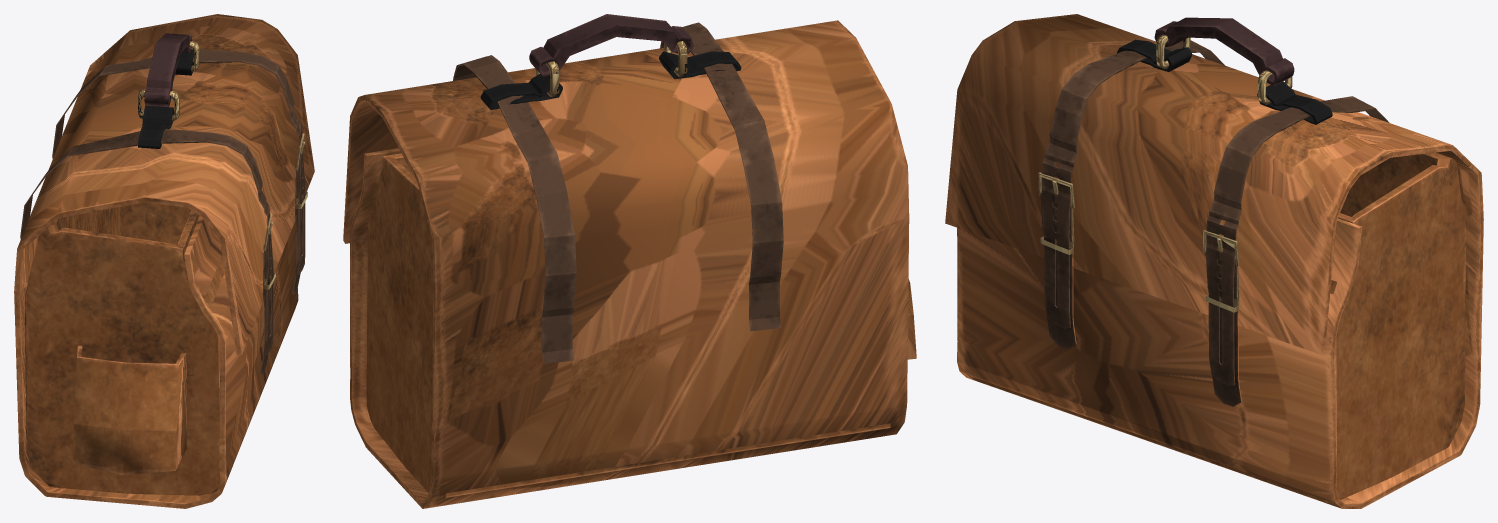
The model's file is Maletin.fbx.
3 views of the same model, side by side, from view 1: azimuth 30°, elevation 25°; view 2: azimuth 150°, elevation 25°; view 3: azimuth 270°, elevation 25° (orthographic). The views are drawn at different scales.
Visible parts, largest first — view 1: p3_MaletinyPico; view 2: p3_MaletinyPico; view 3: p3_MaletinyPico.
Boxes of the visible parts, bbox=[...] form: p3_MaletinyPico: bbox=[14, 14, 314, 508]; p3_MaletinyPico: bbox=[343, 14, 916, 508]; p3_MaletinyPico: bbox=[945, 14, 1483, 508].
Size of the model in its own units: 55.69 by 48.91 by 59.11.
1 material, 1 textured.
